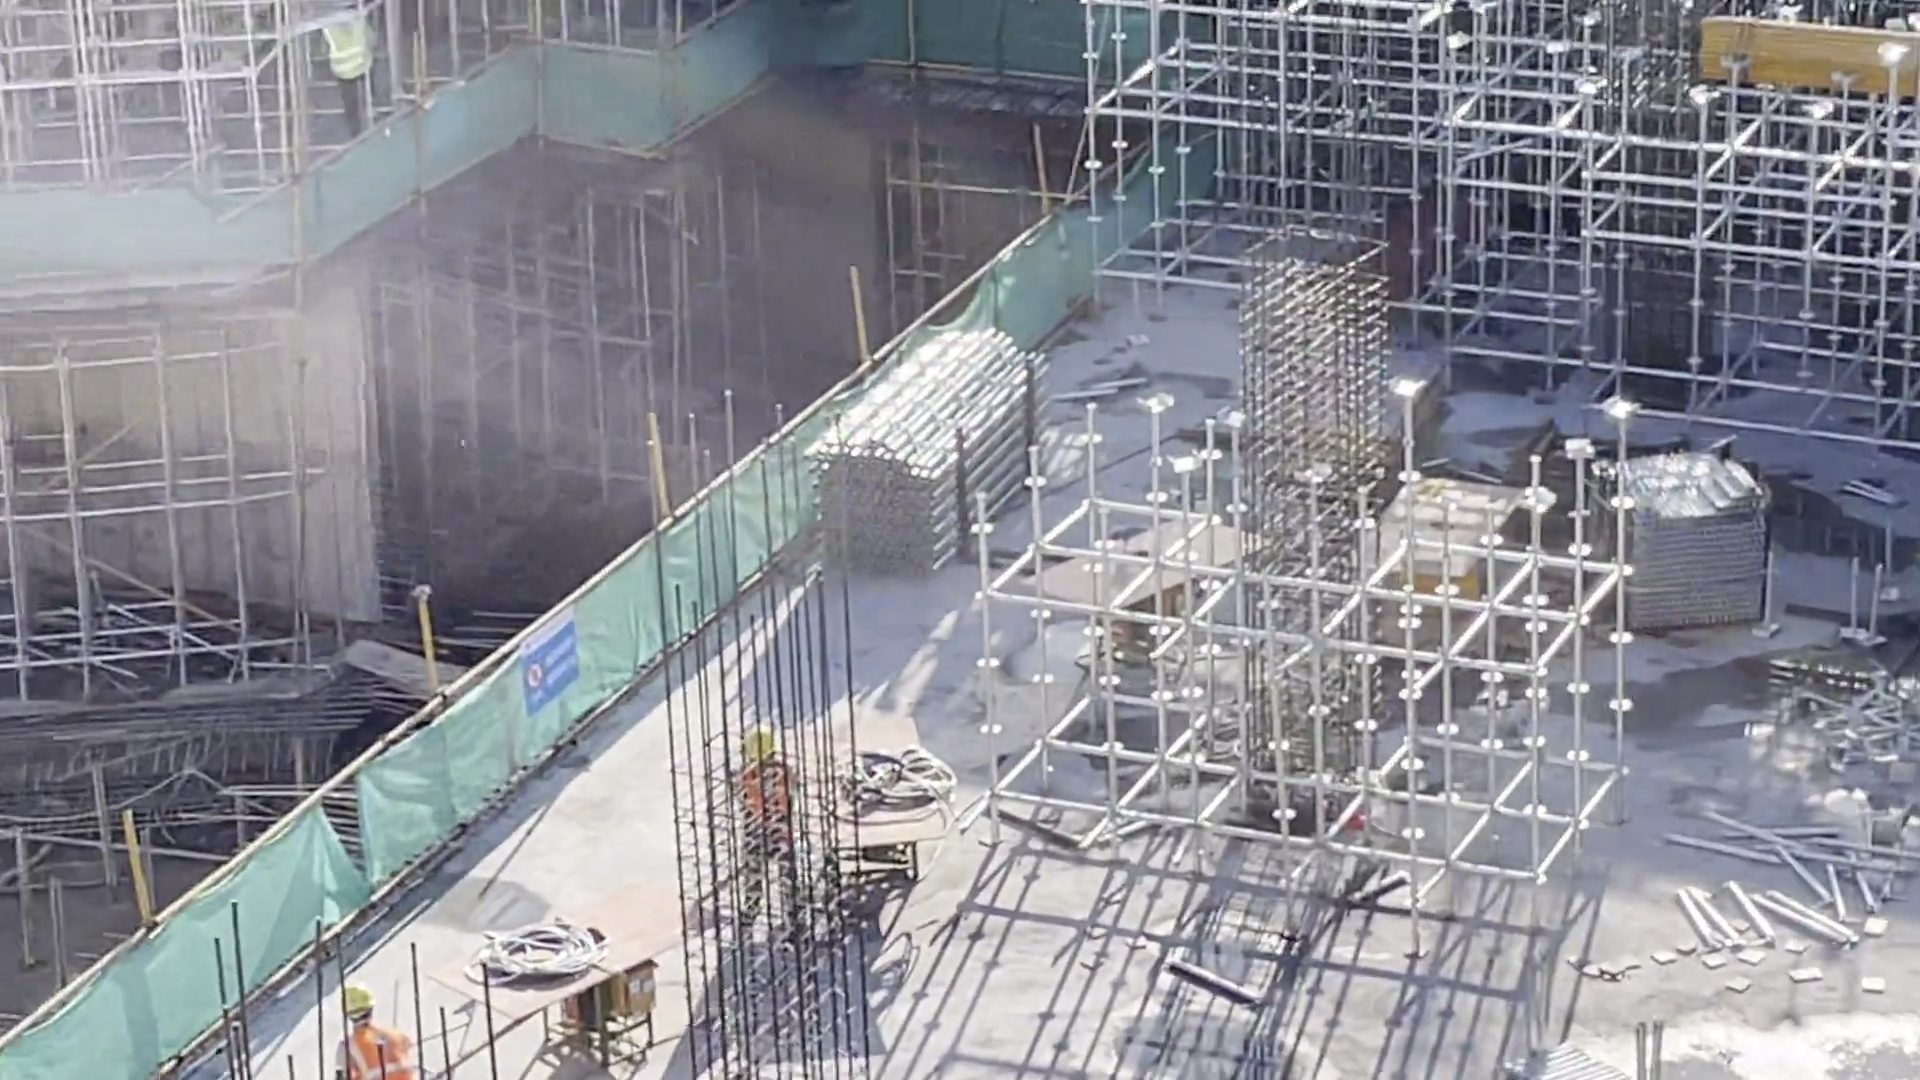cutter: (475, 883, 696, 1056), (1336, 468, 1534, 639), (1034, 516, 1243, 671), (804, 706, 966, 900)
helmet: (330, 971, 380, 1027), (736, 720, 775, 778)
person: (719, 728, 799, 932), (310, 13, 393, 150), (310, 987, 418, 1080)
scaffold: (825, 321, 1063, 580), (1582, 441, 1778, 643), (1816, 689, 1909, 764)
slogan: (499, 608, 595, 722)
vest: (327, 1021, 409, 1080), (731, 764, 800, 832), (324, 16, 374, 81)
